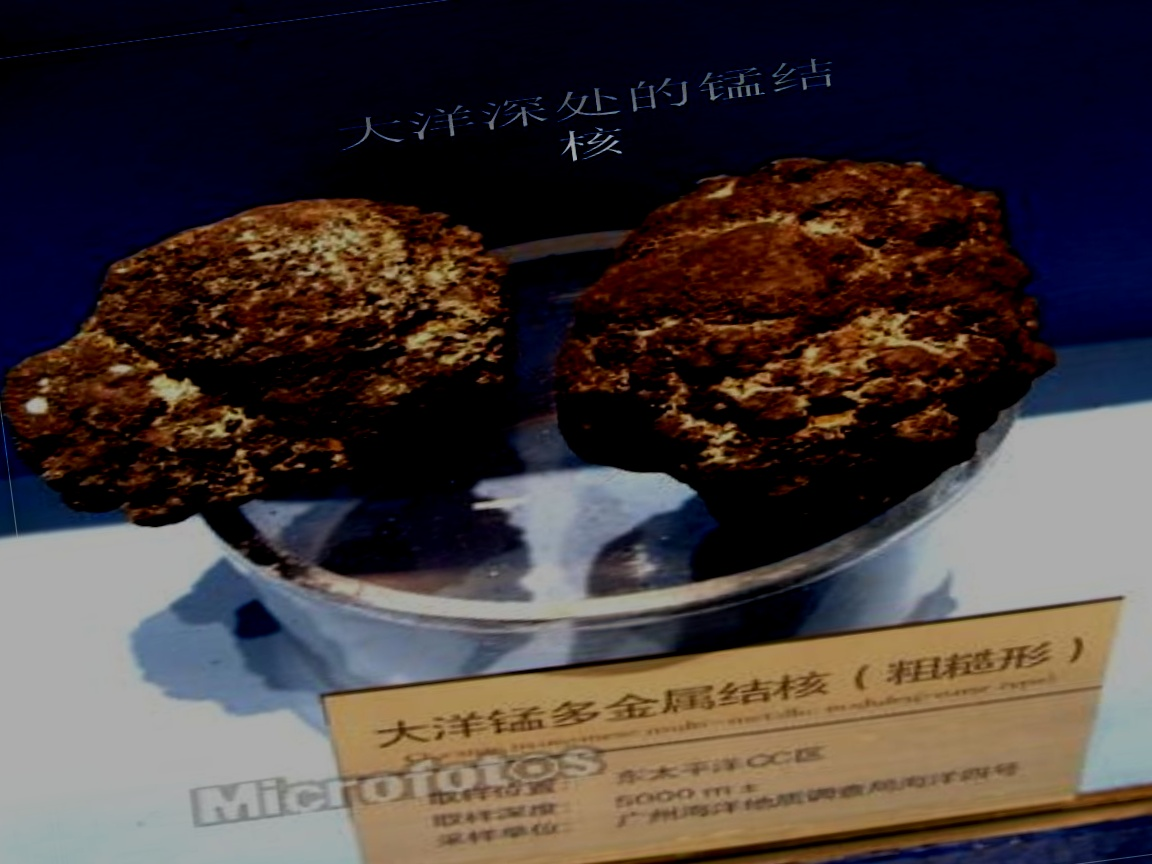halobolite: (1, 167, 550, 550), (590, 163, 1052, 516)
